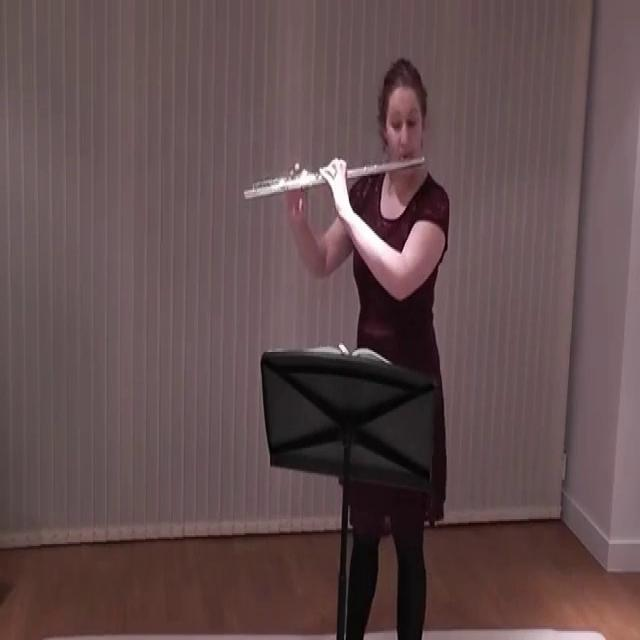Flute: (238, 145, 434, 212)
